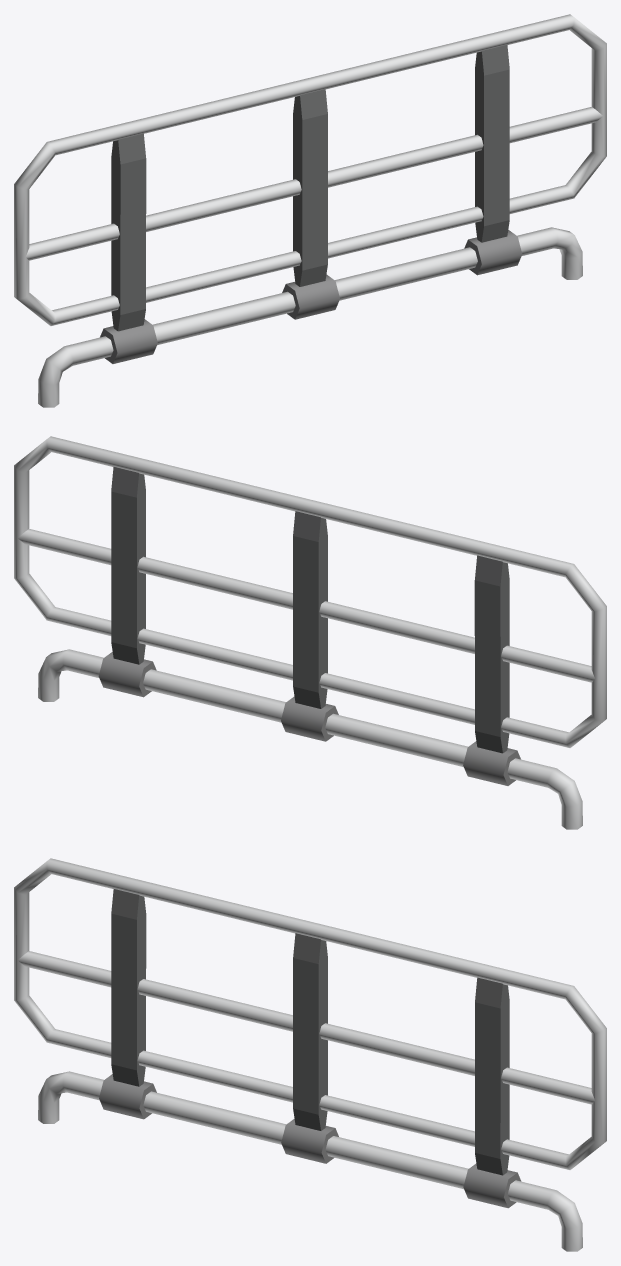
Rendered from Fence_type_A_002.fbx.
The picture shows the model from 3 angles, top to bottom: view 1: azimuth 30°, elevation 25°; view 2: azimuth 150°, elevation 25°; view 3: azimuth 330°, elevation 25°; orthographic projection.
Visible parts, largest first — view 1: Fence_type_A_002; view 2: Fence_type_A_002; view 3: Fence_type_A_002.
Part boxes in pixels (x1,y1,x2,y2): Fence_type_A_002: [14, 14, 606, 407]; Fence_type_A_002: [14, 436, 606, 829]; Fence_type_A_002: [14, 858, 606, 1251].
Size of the model in its own units: 337 by 18.39 by 142.
